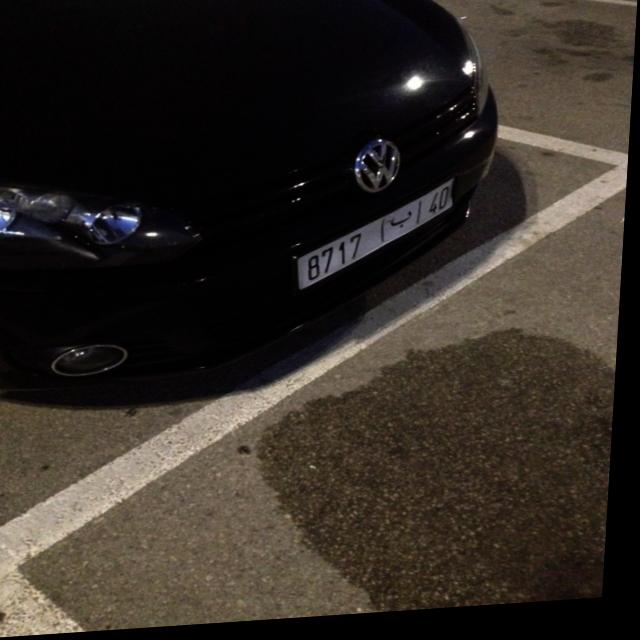License-Plate: (301, 186, 457, 294)
